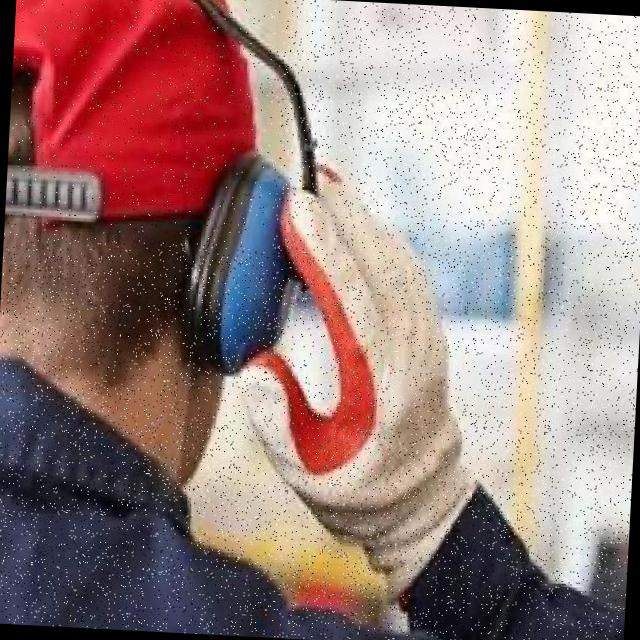hard_hat: (4, 0, 286, 247)
vehicle: (0, 0, 640, 640)
